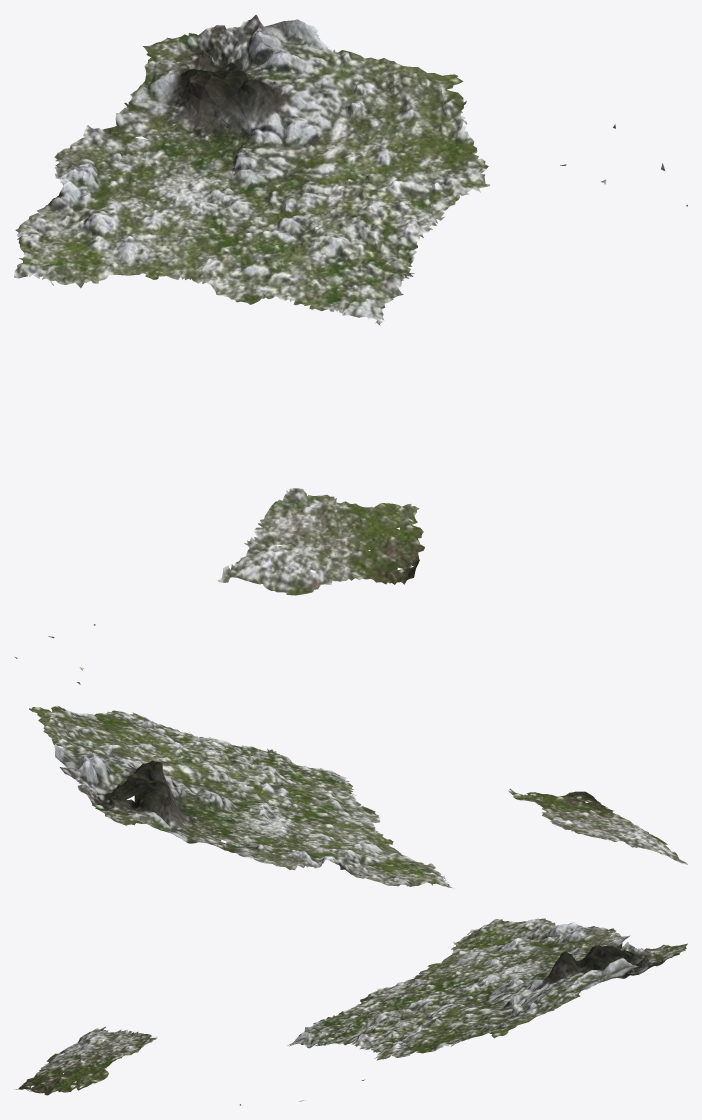
3 views of the same model, one above another, from view 1: azimuth 30°, elevation 25°; view 2: azimuth 150°, elevation 25°; view 3: azimuth 270°, elevation 25° (orthographic). The views are drawn at different scales.
Bounding box in the file's own units: 24.63 × 10.81 × 29.09.
1 material, 1 textured.
